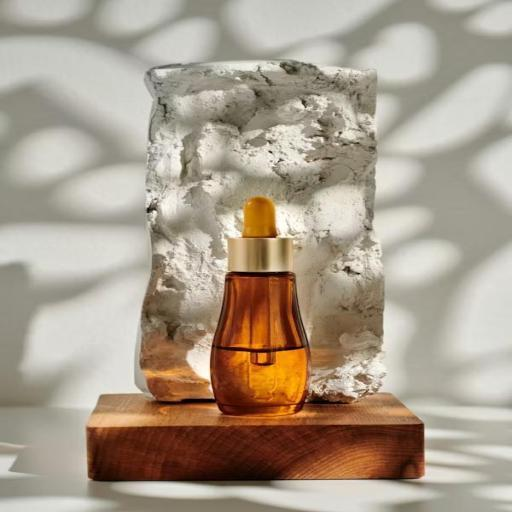bottle: (196, 187, 322, 424)
